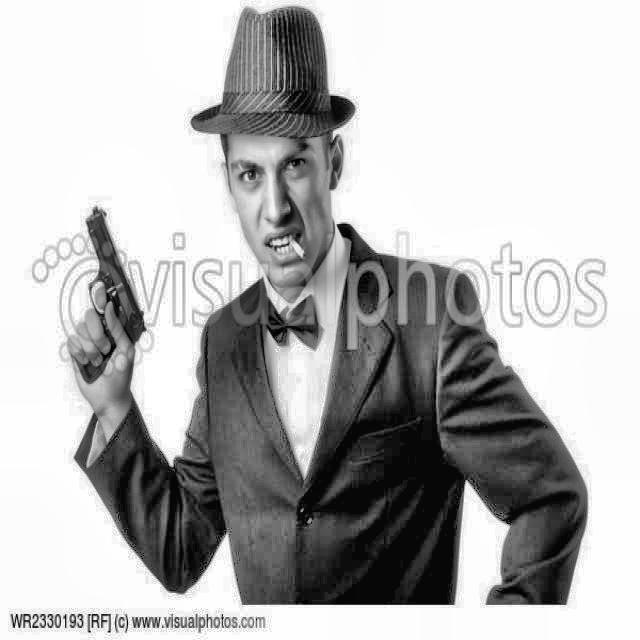pistol: (54, 192, 158, 424)
